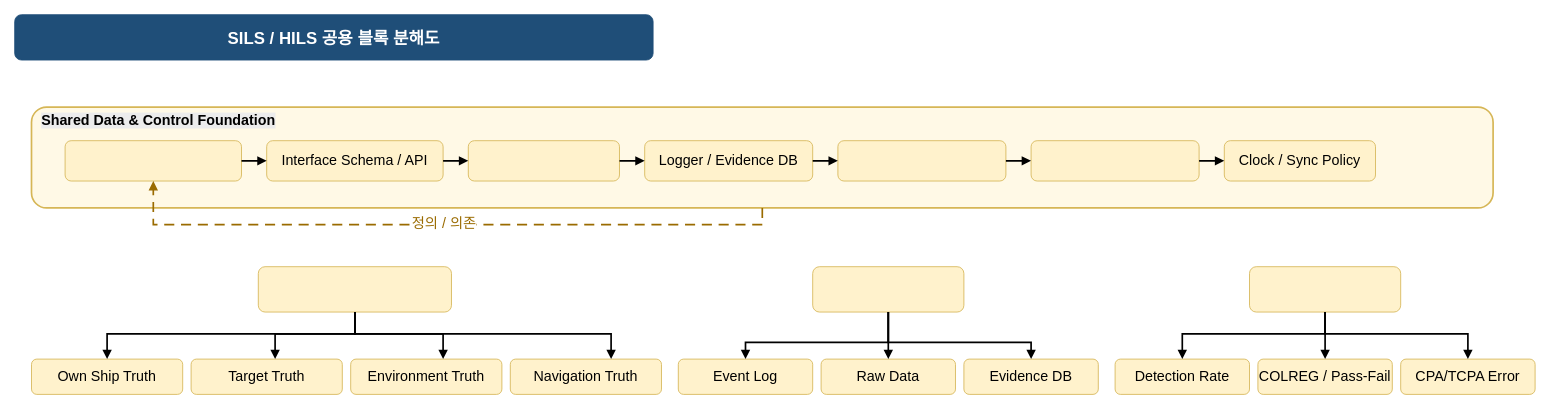
Some shapes in this 1550 by 409 pixel diagram are drawn without their labels. The shapes that lost their labels are listed below. From the top down, each one's centre as x and y in pixels, then its label:
At pixel 153 160: "Common Data Model".
At pixel 543 160: "Scenario Library".
At pixel 921 160: "Replay / Visualization".
At pixel 1114 160: "KPI / Report Engine".
At pixel 354 289: "Ground Truth Manager".
At pixel 888 289: "Logger".
At pixel 1325 289: "KPI".
